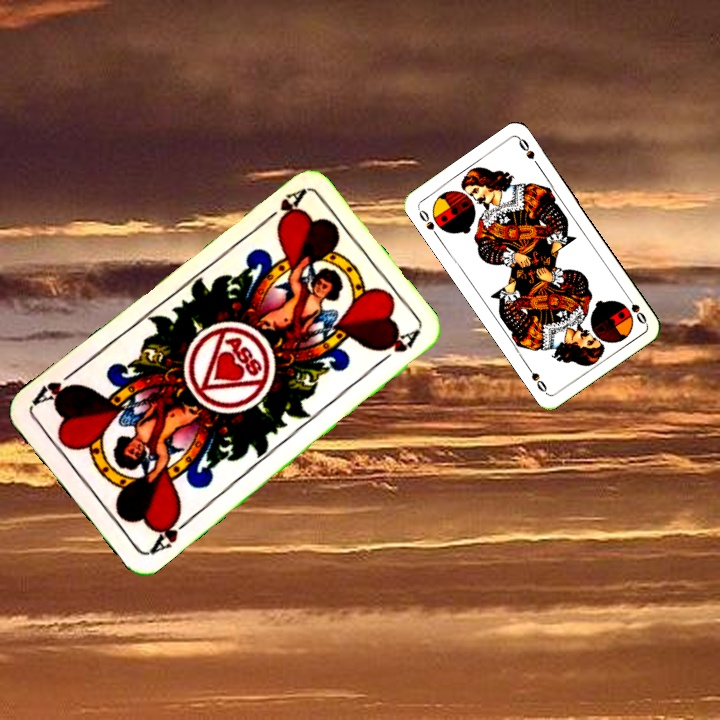HA: (146, 508, 195, 558), (256, 185, 308, 229)
SO: (621, 290, 649, 327), (414, 205, 442, 240)
